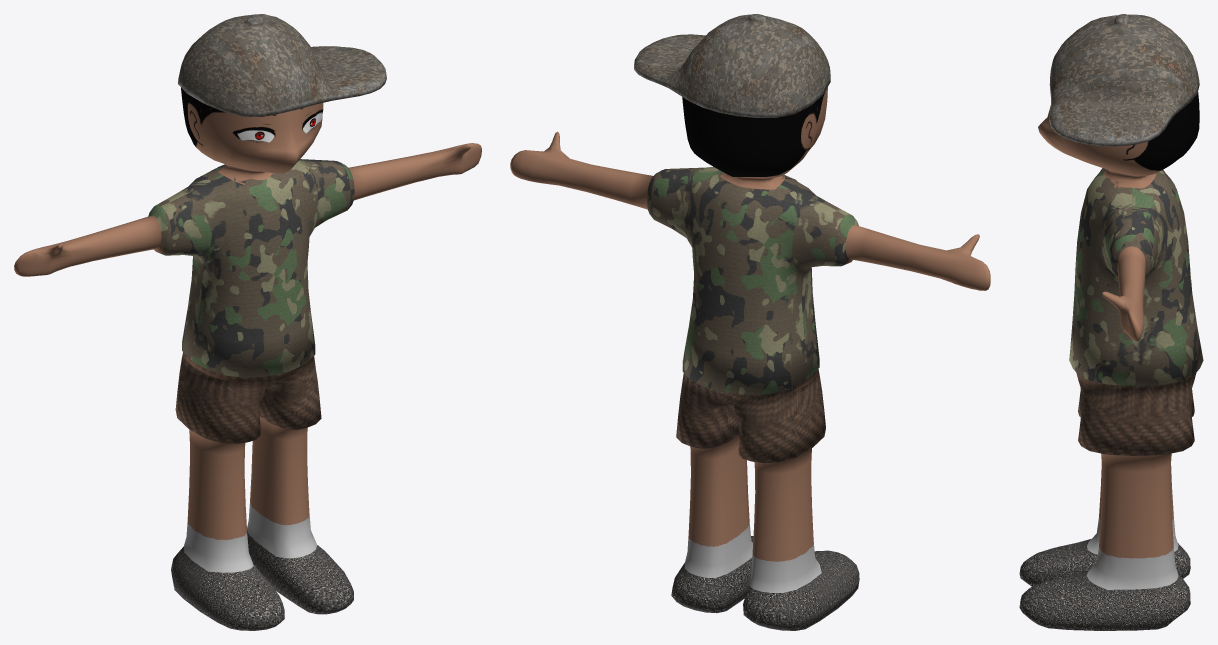
File: Bully_Final.fbx
3 views of the same model, side by side, from view 1: azimuth 30°, elevation 25°; view 2: azimuth 150°, elevation 25°; view 3: azimuth 270°, elevation 25° (orthographic). The views are drawn at different scales.
Parts seen in each view (by area): view 1: Bully_Final, Hat_Final; view 2: Bully_Final, Hat_Final; view 3: Bully_Final, Hat_Final.
Part boxes in pixels (x1=…): Bully_Final: x1=14, y1=87, x2=481, y2=630; Hat_Final: x1=178, y1=14, x2=386, y2=116; Bully_Final: x1=510, y1=87, x2=990, y2=630; Hat_Final: x1=634, y1=14, x2=830, y2=117; Bully_Final: x1=1019, y1=92, x2=1203, y2=630; Hat_Final: x1=1049, y1=14, x2=1199, y2=146.
Bounding box in the file's own units: 163 × 190 × 54.44.
Materials: 2 (2 with a texture image).
